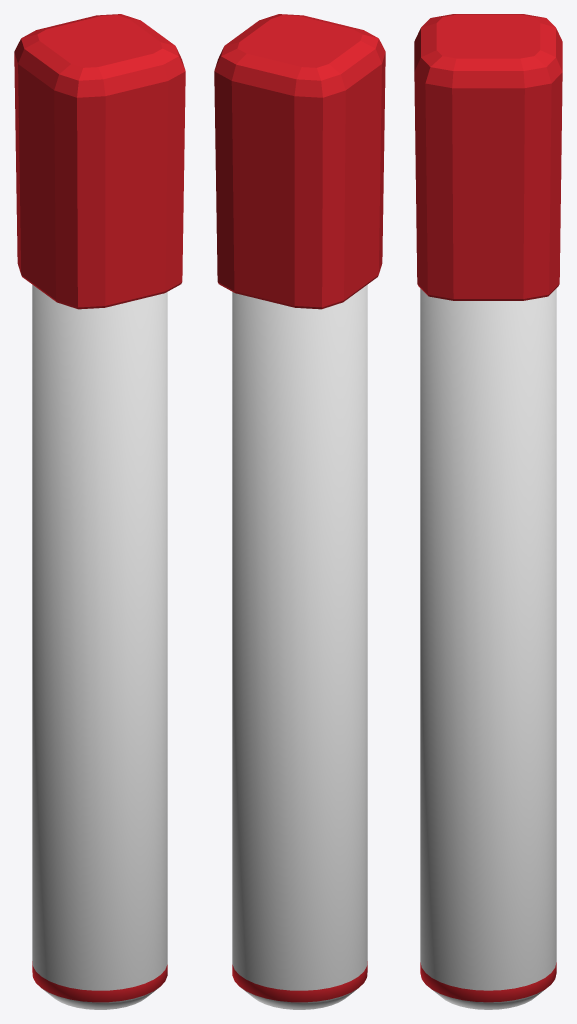
Rendered from marker-czerwony.fbx.
The picture shows the model from 3 angles, left to right: view 1: azimuth 30°, elevation 25°; view 2: azimuth 150°, elevation 25°; view 3: azimuth 270°, elevation 25°; orthographic projection.
Parts seen in each view (by area): view 1: Cube; view 2: Cube; view 3: Cube.
Part boxes in pixels (left/top/right/bottom): Cube: left=14, top=14, right=185, bottom=1009; Cube: left=214, top=14, right=385, bottom=1009; Cube: left=414, top=14, right=562, bottom=1009.
Bounding box in the file's own units: 218 × 1543 × 218.
